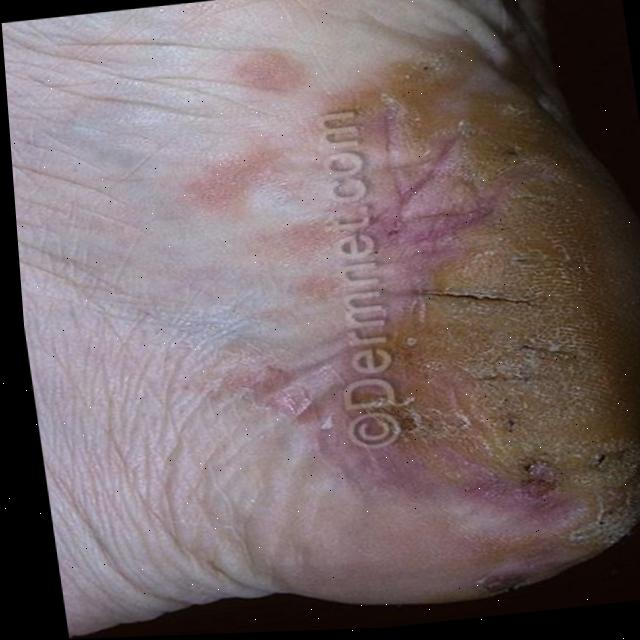Eczema: (203, 21, 640, 613)
